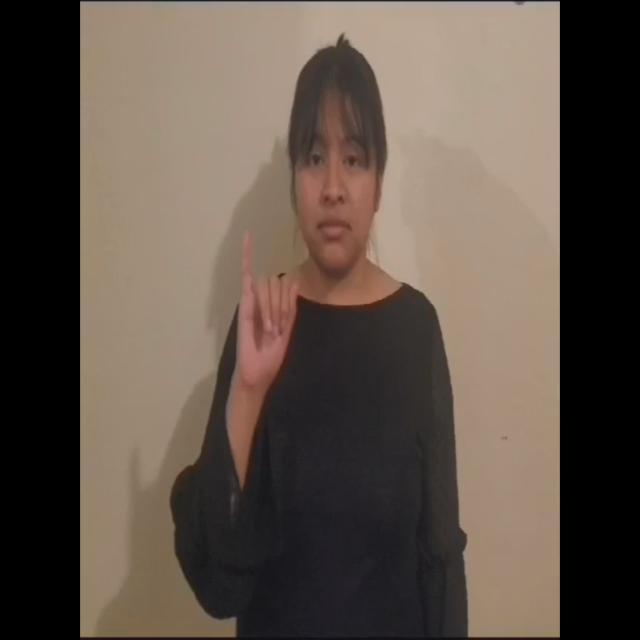I: (218, 208, 312, 414)
